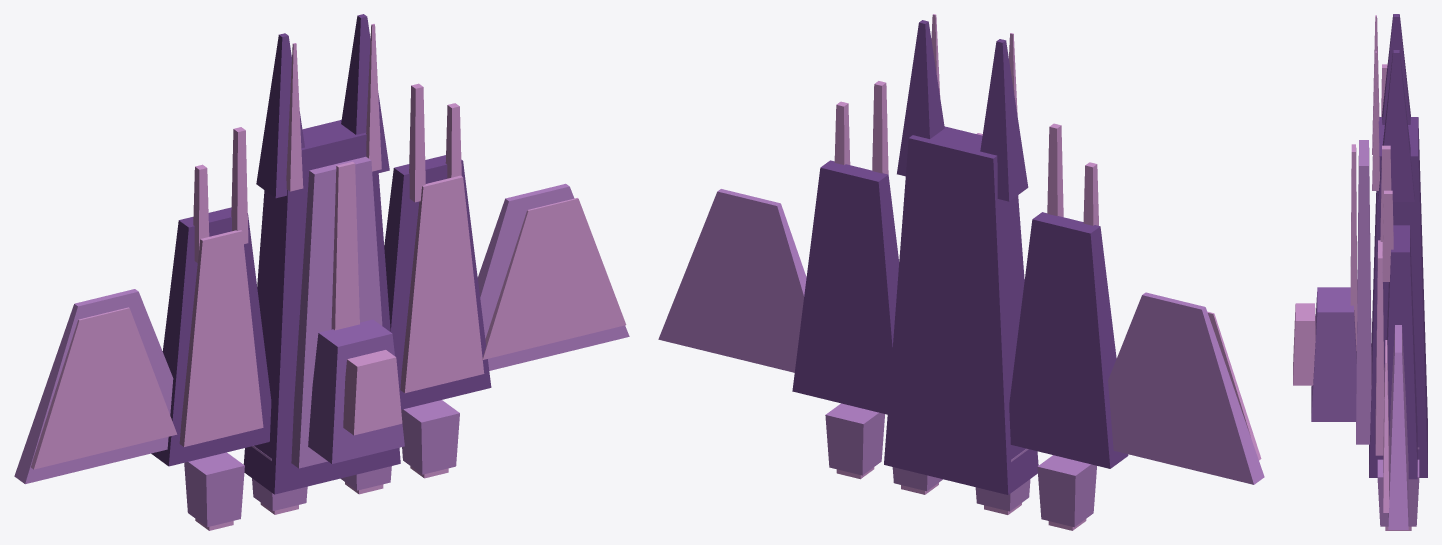
Rendered from ship_celestial_ark.glb.
3 renders of one model, left to right at view 1: azimuth 30°, elevation 25°; view 2: azimuth 150°, elevation 25°; view 3: azimuth 270°, elevation 25°, orthographic. The views are drawn at different scales.
Parts seen in each view (by area): view 1: BattleshipHull; view 2: BattleshipHull; view 3: BattleshipHull.
Part boxes in pixels (bbox=[...]): BattleshipHull: bbox=[14, 14, 629, 530]; BattleshipHull: bbox=[658, 14, 1264, 530]; BattleshipHull: bbox=[1293, 14, 1427, 530].
Bounding box in the file's own units: 6.46 × 4.82 × 1.33.
